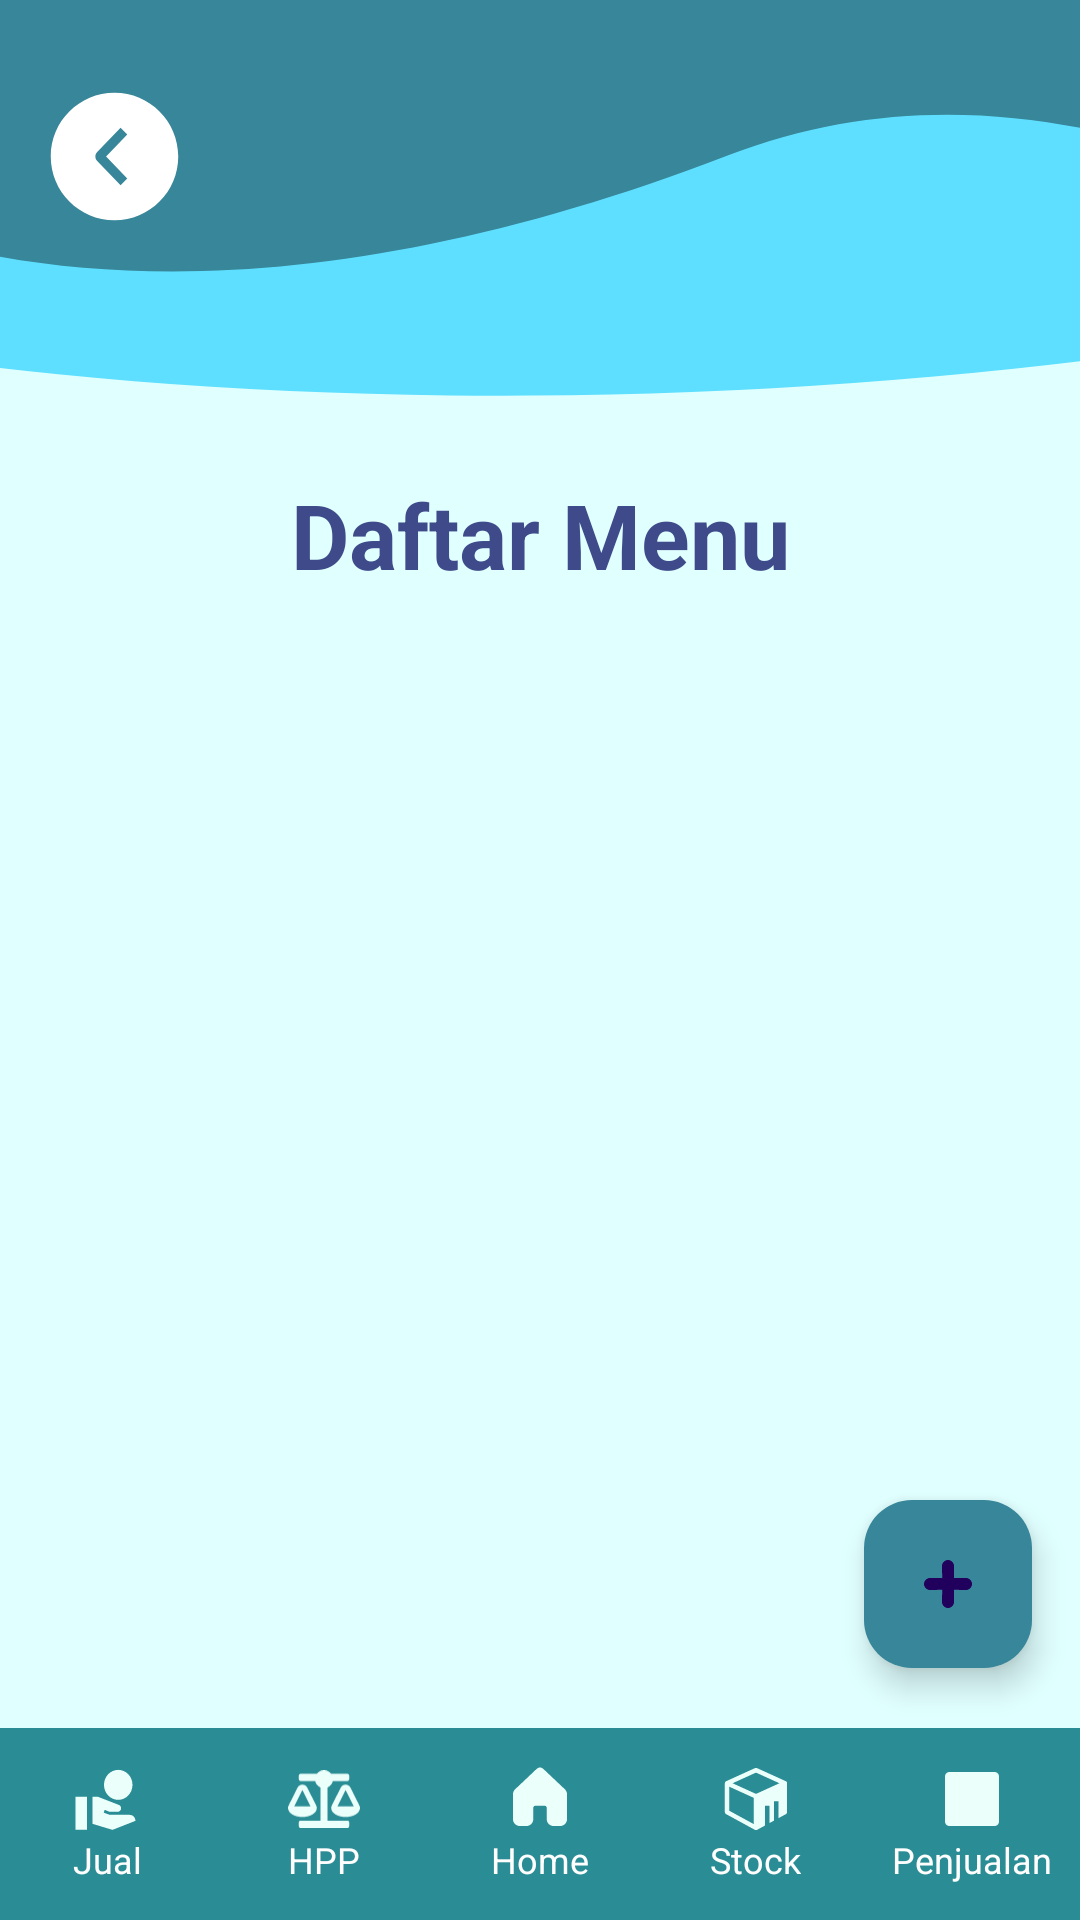

Icon click points for this 1080w x 1920h phone screenshot, format (x=x, y=y):
Tambah: (x=948, y=1584)
